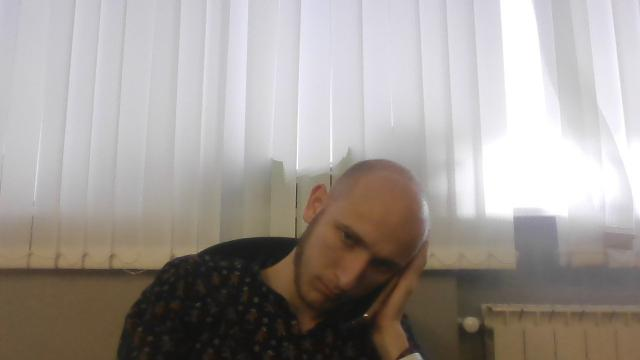Phone: (354, 240, 410, 322)
